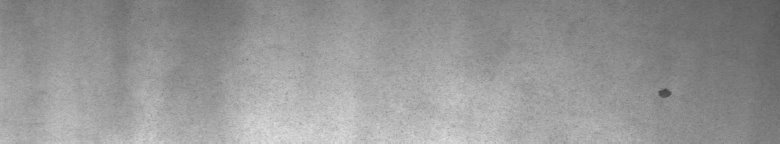fi: (655, 80, 676, 105)
